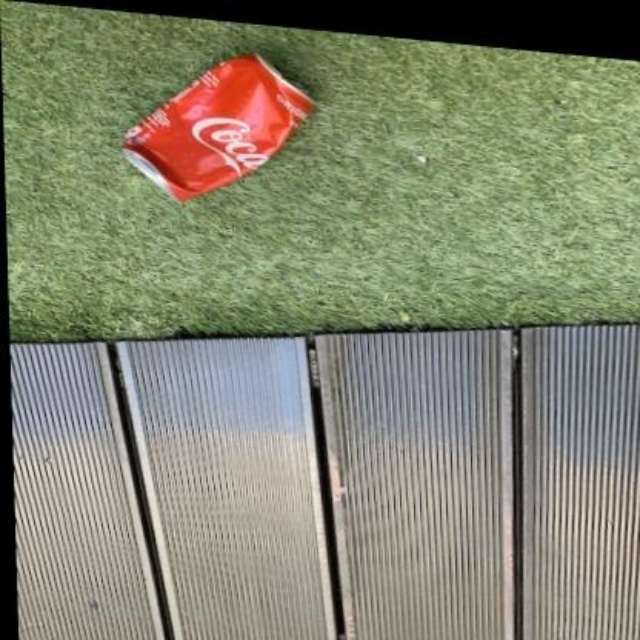trash: (123, 54, 314, 200)
